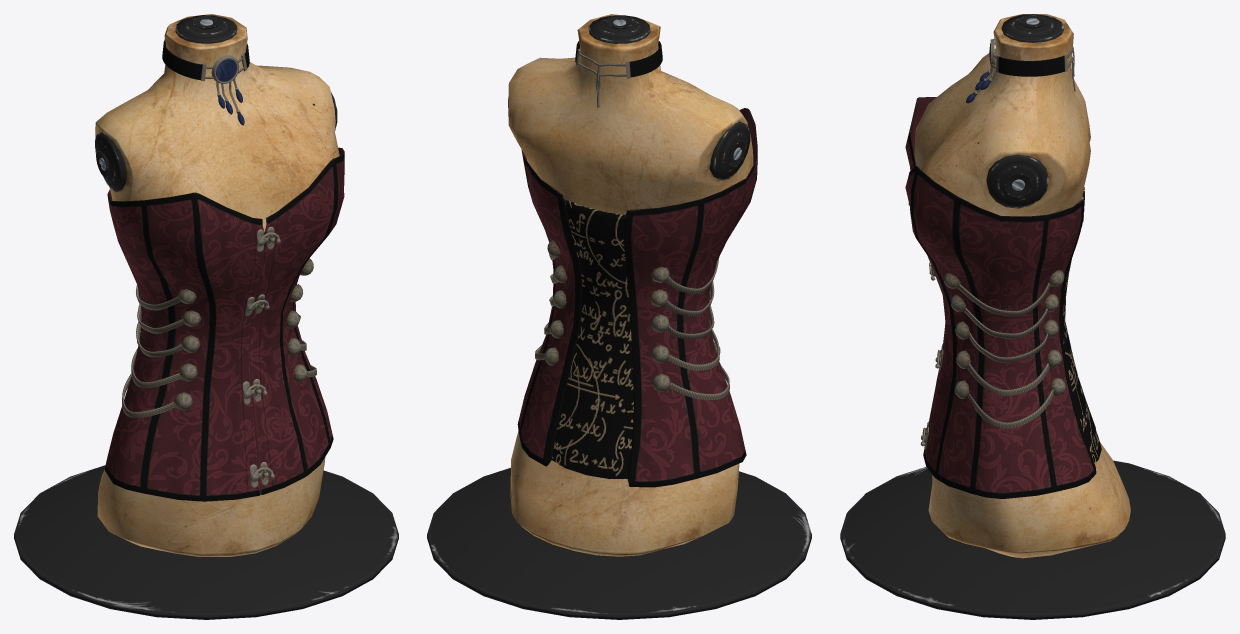
File: Corset.glb
3 renders of one model, left to right at view 1: azimuth 30°, elevation 25°; view 2: azimuth 150°, elevation 25°; view 3: azimuth 270°, elevation 25°, orthographic.
Visible parts, largest first — view 1: Corset; view 2: Corset; view 3: Corset.
Boxes of the visible parts, x1=… form: Corset: x1=14, y1=14, x2=398, y2=619; Corset: x1=427, y1=14, x2=811, y2=619; Corset: x1=840, y1=14, x2=1225, y2=619.
Bounding box in the file's own units: 0.0389 × 0.0578 × 0.0389.
Materials: 1 (1 with a texture image).
